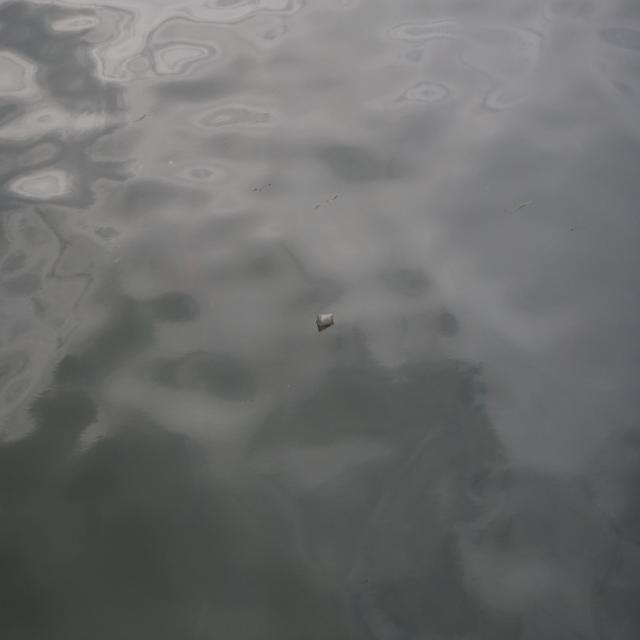Bungkus Minuman: (311, 304, 340, 339)
